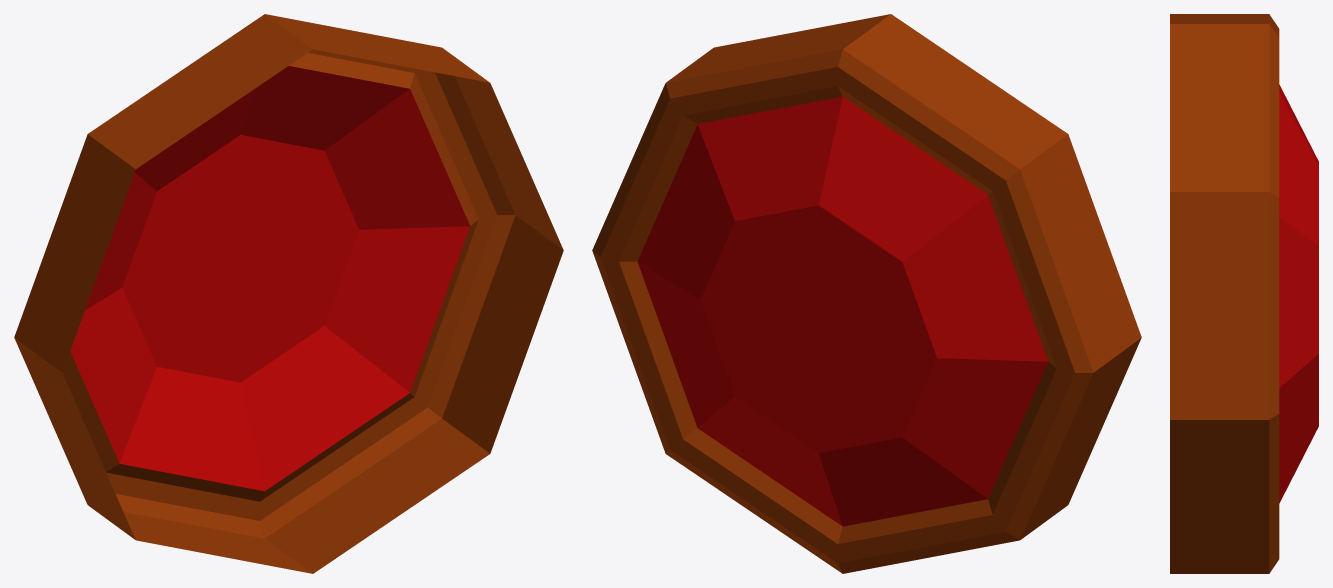
The model's file is SM_StamperLight.FBX.
3 renders of one model, left to right at view 1: azimuth 30°, elevation 25°; view 2: azimuth 150°, elevation 25°; view 3: azimuth 270°, elevation 25°, orthographic. The views are drawn at different scales.
Parts seen in each view (by area): view 1: StamperLight; view 2: StamperLight; view 3: StamperLight.
Boxes of the visible parts, x1,y1,x2,y2 form: StamperLight: (14,14,563,573); StamperLight: (592,14,1141,573); StamperLight: (1170,14,1318,573).
Bounding box in the file's own units: 12 × 12 × 3.
